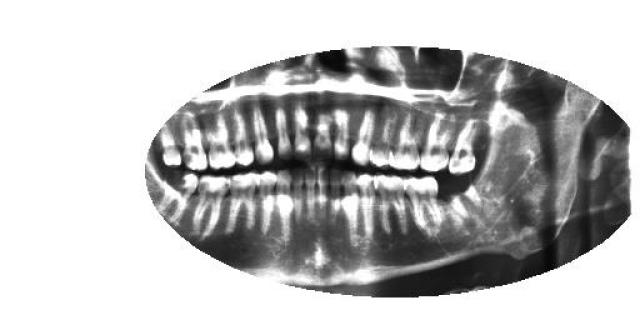Cavity: (155, 170, 197, 224), (445, 175, 484, 217)
